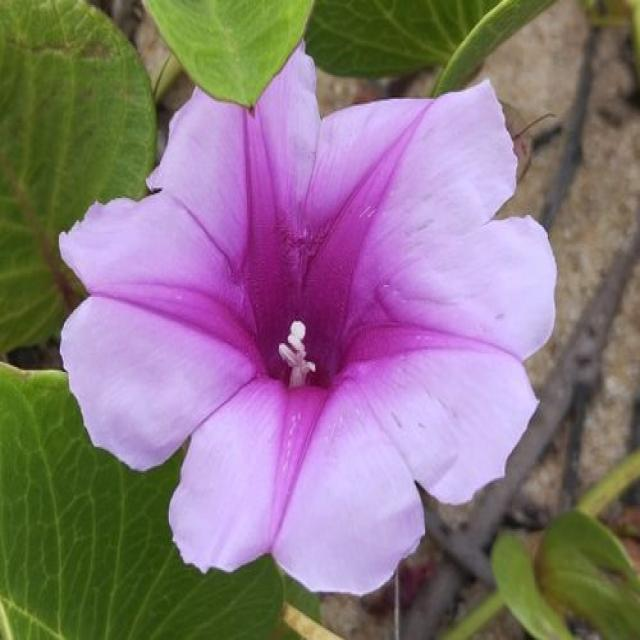ipomoea: (54, 39, 562, 601)
